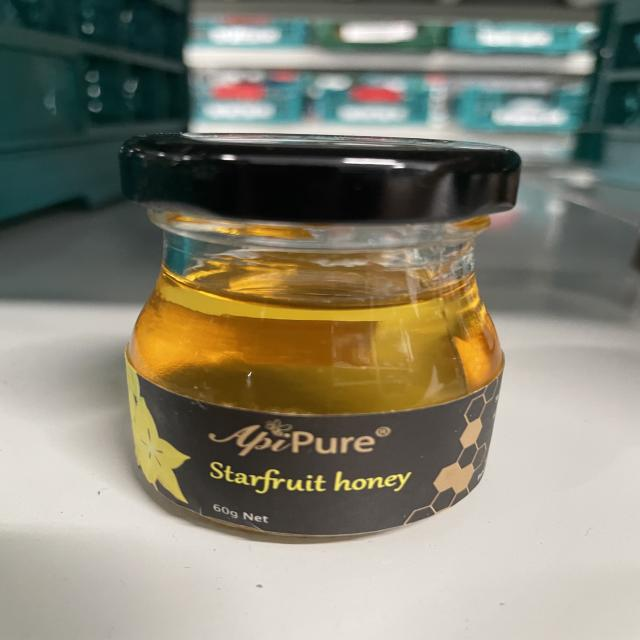object_name: (113, 138, 512, 544)
